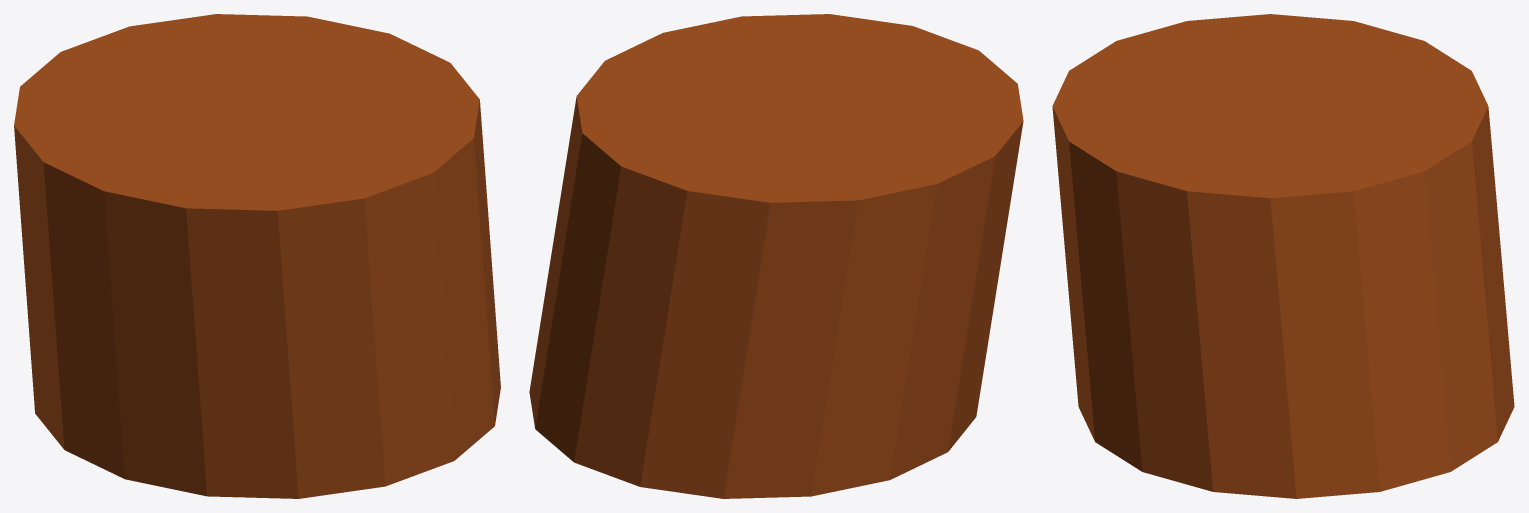
File: agac_parca.fbx
3 renders of one model, left to right at view 1: azimuth 30°, elevation 25°; view 2: azimuth 150°, elevation 25°; view 3: azimuth 270°, elevation 25°, orthographic. The views are drawn at different scales.
Parts seen in each view (by area): view 1: Cylinder.012; view 2: Cylinder.012; view 3: Cylinder.012.
Part boxes in pixels (<box>): Cylinder.012: <box>14,14,500,498</box>; Cylinder.012: <box>529,14,1023,498</box>; Cylinder.012: <box>1052,14,1514,498</box>.
Size of the model in its own units: 217 by 144 by 212.
